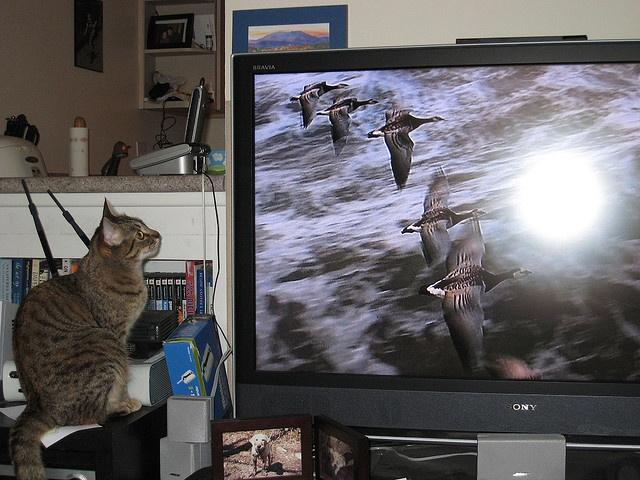AIO PC-Monitor-TV: (229, 37, 639, 436)
